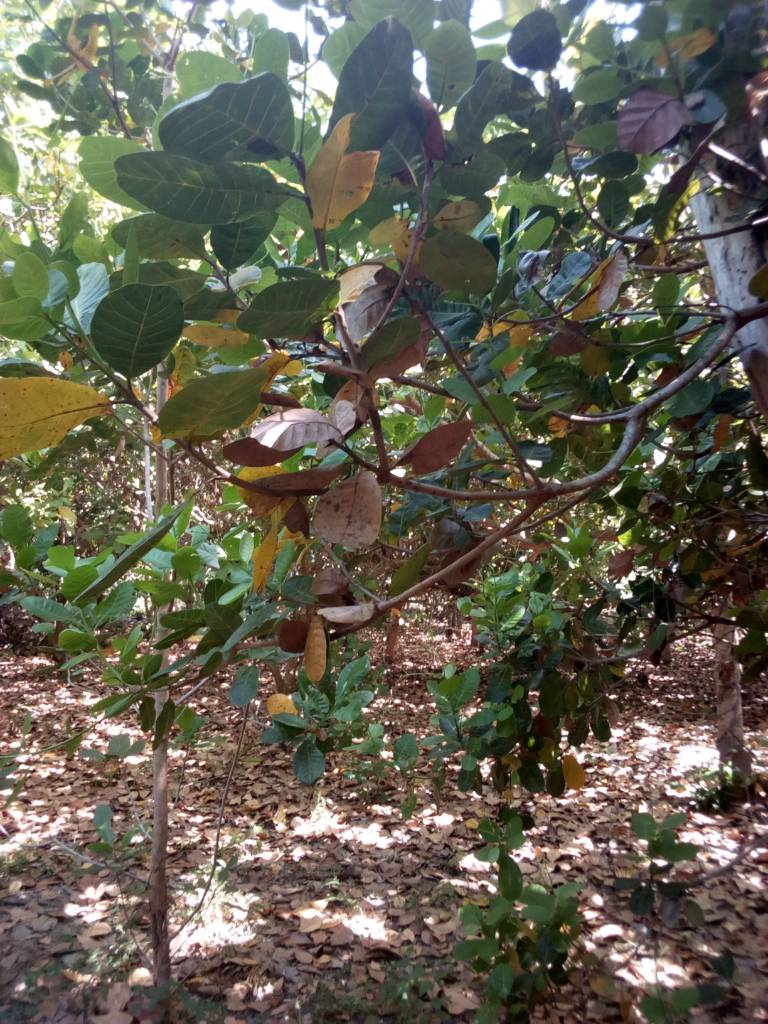Dessèchement des bourgeons: (311, 561, 385, 645)
